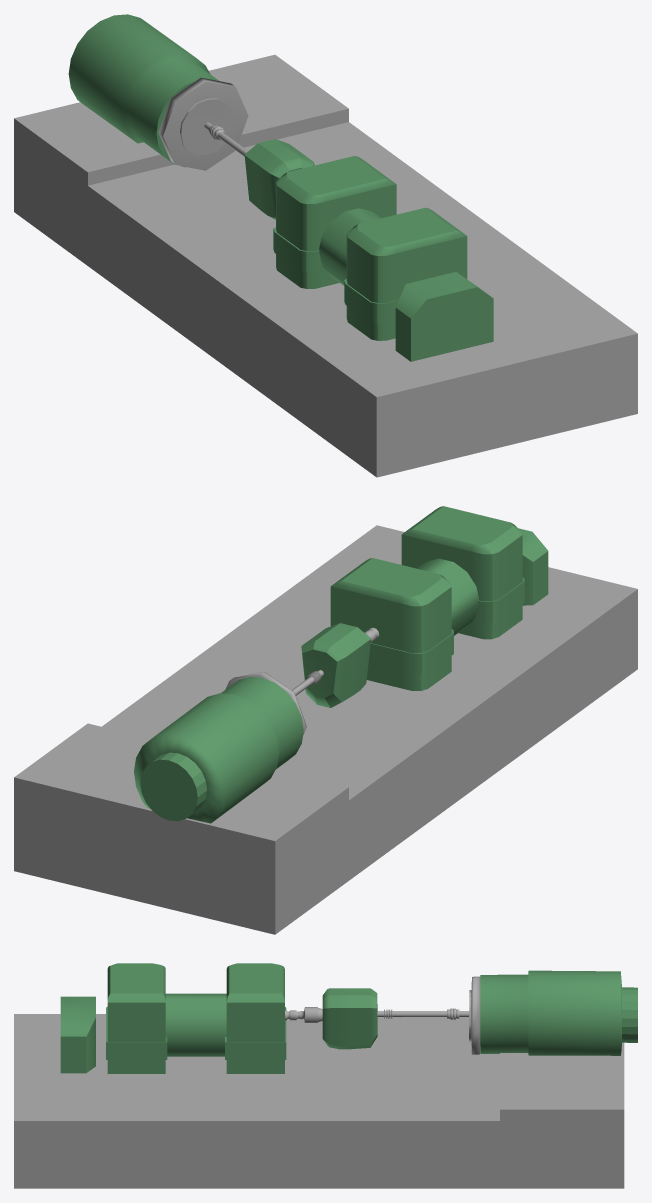
Rendered from generator 1.fbx.
The picture shows the model from 3 angles, top to bottom: view 1: azimuth 30°, elevation 25°; view 2: azimuth 150°, elevation 25°; view 3: azimuth 270°, elevation 25°; orthographic projection. The views are drawn at different scales.
Visible parts, largest first — view 1: stand, pCylinder37, pCube3, pCube4, pCube2, pCylinder36, pCylinder25, nurbsToPoly1; view 2: stand, pCylinder37, pCube4, pCube3, pCylinder25, nurbsToPoly1, pCube2; view 3: stand, pCylinder37, pCube4, pCube3, nurbsToPoly1, pCylinder25, pCube2, pCylinder36, pCylinder26, nurbsToPoly2.
Part boxes in pixels (bbox=[...]): stand: bbox=[14, 54, 637, 477]; pCylinder37: bbox=[68, 14, 218, 167]; pCube3: bbox=[344, 207, 467, 340]; pCube4: bbox=[273, 156, 396, 288]; pCube2: bbox=[395, 272, 493, 361]; pCylinder36: bbox=[158, 77, 248, 170]; pCylinder25: bbox=[244, 139, 314, 219]; nurbsToPoly1: bbox=[319, 208, 380, 285]; stand: bbox=[14, 525, 637, 934]; pCylinder37: bbox=[134, 677, 303, 823]; pCube4: bbox=[330, 558, 453, 690]; pCube3: bbox=[401, 506, 524, 639]; pCylinder25: bbox=[301, 623, 370, 707]; nurbsToPoly1: bbox=[417, 558, 478, 635]; pCube2: bbox=[518, 528, 548, 605]; stand: bbox=[14, 1014, 624, 1188]; pCylinder37: bbox=[480, 970, 637, 1055]; pCube4: bbox=[225, 963, 286, 1073]; pCube3: bbox=[106, 963, 167, 1073]; nurbsToPoly1: bbox=[165, 993, 226, 1056]; pCylinder25: bbox=[322, 988, 377, 1049]; pCube2: bbox=[60, 996, 95, 1073]; pCylinder36: bbox=[469, 976, 480, 1054]; pCylinder26: bbox=[377, 1011, 469, 1016]; nurbsToPoly2: bbox=[285, 1007, 322, 1022].
Size of the model in its own units: 5.88 by 3.77 by 14.48.
